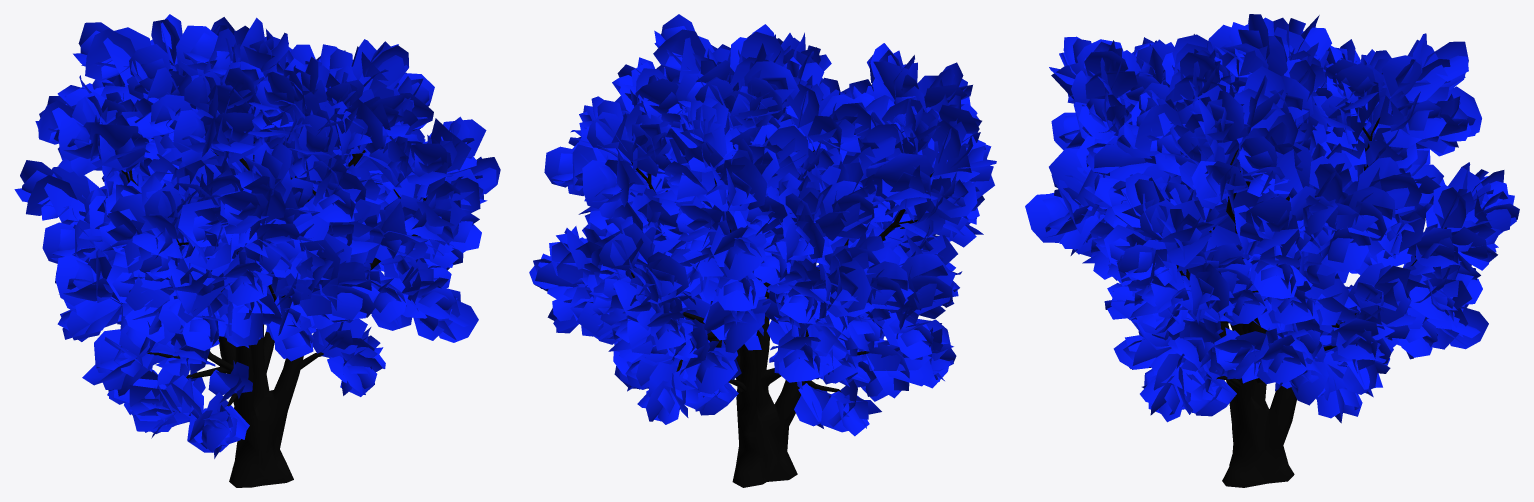
File: Tree_1.fbx
3 renders of one model, left to right at view 1: azimuth 30°, elevation 25°; view 2: azimuth 150°, elevation 25°; view 3: azimuth 270°, elevation 25°, orthographic. The views are drawn at different scales.
Visible parts, largest first — view 1: SM_Oak_Fall_01a_LOD0; view 2: SM_Oak_Fall_01a_LOD0; view 3: SM_Oak_Fall_01a_LOD0.
Part boxes in pixels (left/top/right/bottom): SM_Oak_Fall_01a_LOD0: left=14, top=14, right=500, bottom=487; SM_Oak_Fall_01a_LOD0: left=529, top=14, right=996, bottom=487; SM_Oak_Fall_01a_LOD0: left=1025, top=14, right=1519, bottom=487.
Bounding box in the file's own units: 2513 × 2653 × 2576.
